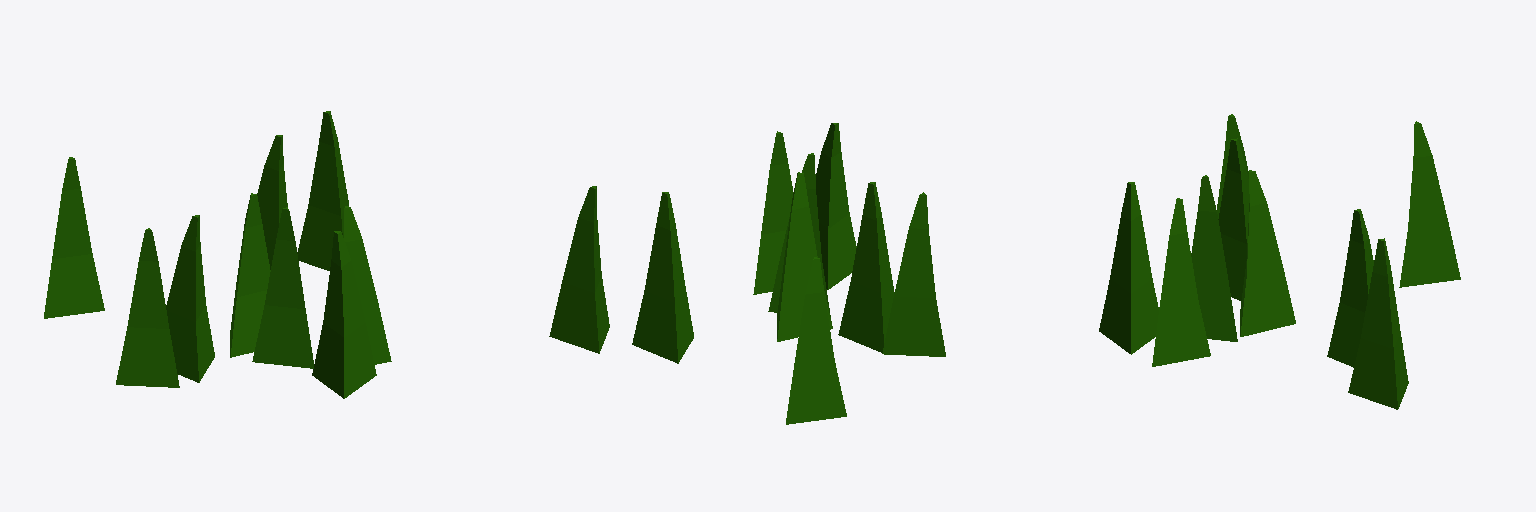
Rendered from Bushes1.obj.
3 views of the same model, side by side, from view 1: azimuth 30°, elevation 25°; view 2: azimuth 150°, elevation 25°; view 3: azimuth 270°, elevation 25° (orthographic).
Parts seen in each view (by area): view 1: Cylinder_010, Cylinder_003, Cylinder_008, Cylinder_006, Cylinder_005, Cylinder_004, Cylinder_007, Cylinder_009, Cylinder_002; view 2: Cylinder_002, Cylinder_003, Cylinder_004, Cylinder_006, Cylinder_005, Cylinder_010, Cylinder_007, Cylinder_009, Cylinder_008; view 3: Cylinder_010, Cylinder_004, Cylinder_006, Cylinder_009, Cylinder_007, Cylinder_008, Cylinder_002, Cylinder_005, Cylinder_003.
Boxes of the visible parts, x1=… form: Cylinder_010: x1=312, y1=231, x2=376, y2=398; Cylinder_003: x1=116, y1=228, x2=179, y2=387; Cylinder_008: x1=252, y1=207, x2=313, y2=368; Cylinder_006: x1=44, y1=157, x2=104, y2=318; Cylinder_005: x1=166, y1=215, x2=214, y2=382; Cylinder_004: x1=297, y1=111, x2=348, y2=270; Cylinder_007: x1=230, y1=193, x2=270, y2=357; Cylinder_009: x1=344, y1=206, x2=391, y2=364; Cylinder_002: x1=257, y1=135, x2=287, y2=269; Cylinder_002: x1=632, y1=192, x2=693, y2=363; Cylinder_003: x1=882, y1=192, x2=945, y2=356; Cylinder_004: x1=549, y1=186, x2=609, y2=353; Cylinder_006: x1=786, y1=257, x2=846, y2=424; Cylinder_005: x1=838, y1=182, x2=894, y2=352; Cylinder_010: x1=816, y1=123, x2=856, y2=289; Cylinder_007: x1=777, y1=172, x2=832, y2=341; Cylinder_009: x1=753, y1=131, x2=793, y2=294; Cylinder_008: x1=768, y1=153, x2=830, y2=316; Cylinder_010: x1=1099, y1=182, x2=1158, y2=354; Cylinder_004: x1=1348, y1=238, x2=1408, y2=409; Cylinder_006: x1=1399, y1=121, x2=1460, y2=287; Cylinder_009: x1=1152, y1=198, x2=1210, y2=366; Cylinder_007: x1=1240, y1=170, x2=1295, y2=336; Cylinder_008: x1=1191, y1=175, x2=1237, y2=341; Cylinder_002: x1=1327, y1=209, x2=1373, y2=367; Cylinder_005: x1=1218, y1=138, x2=1249, y2=300; Cylinder_003: x1=1217, y1=114, x2=1248, y2=218.
Bounding box in the file's own units: 2234 × 1021 × 2197.